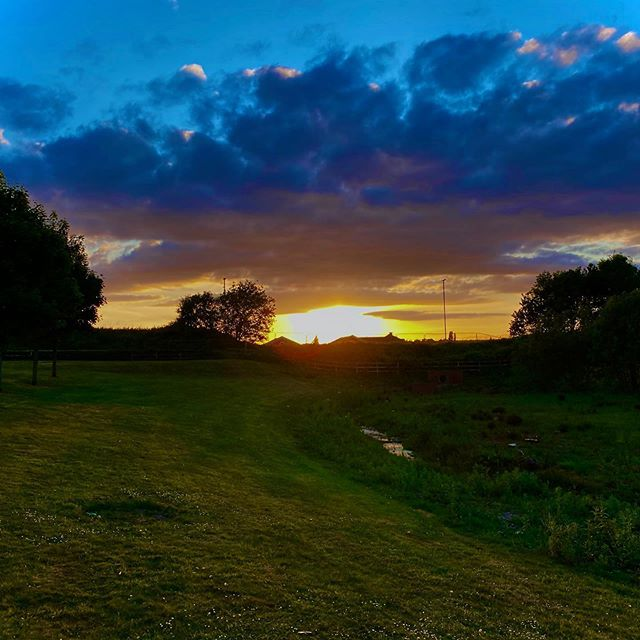grass: (11, 367, 628, 630)
sky: (1, 1, 629, 261)
sun: (305, 290, 382, 346)
tree: (1, 201, 92, 374), (505, 258, 637, 373), (180, 285, 275, 355)
